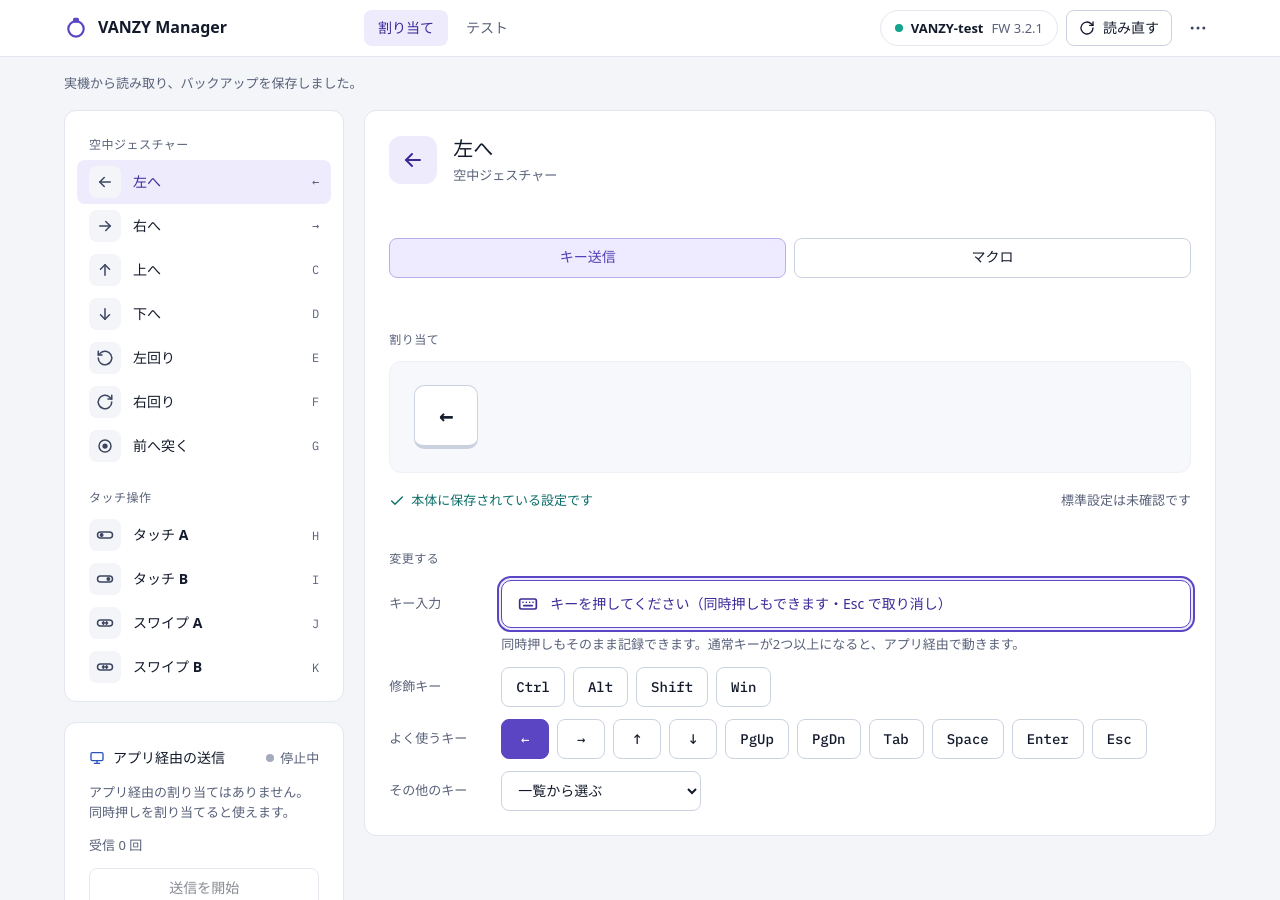
captures only an opted-in local key, and a chord becomes an app binding draft
Earlier steps of the test are not shown.
Press K in the button named "ここをクリックして、割り当てたいキーを押す", box [501,580,1191,628]
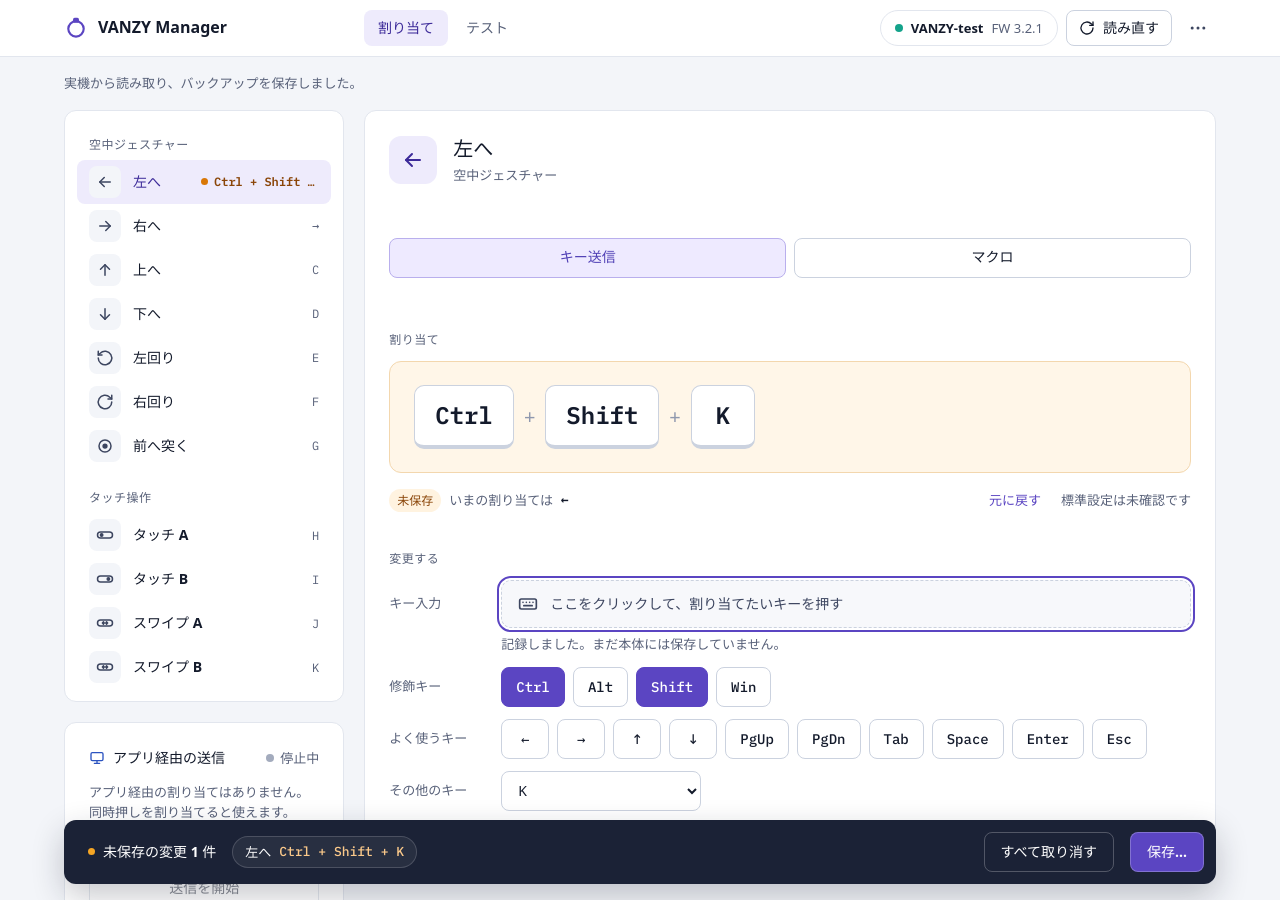
Check: the dropdown labelled "その他のキー" shows "K", box [501,771,701,811]
Check: the text "アプリ経由で動きます" is gone
Click the button "右へ →": (204, 226) [77,204,331,248]
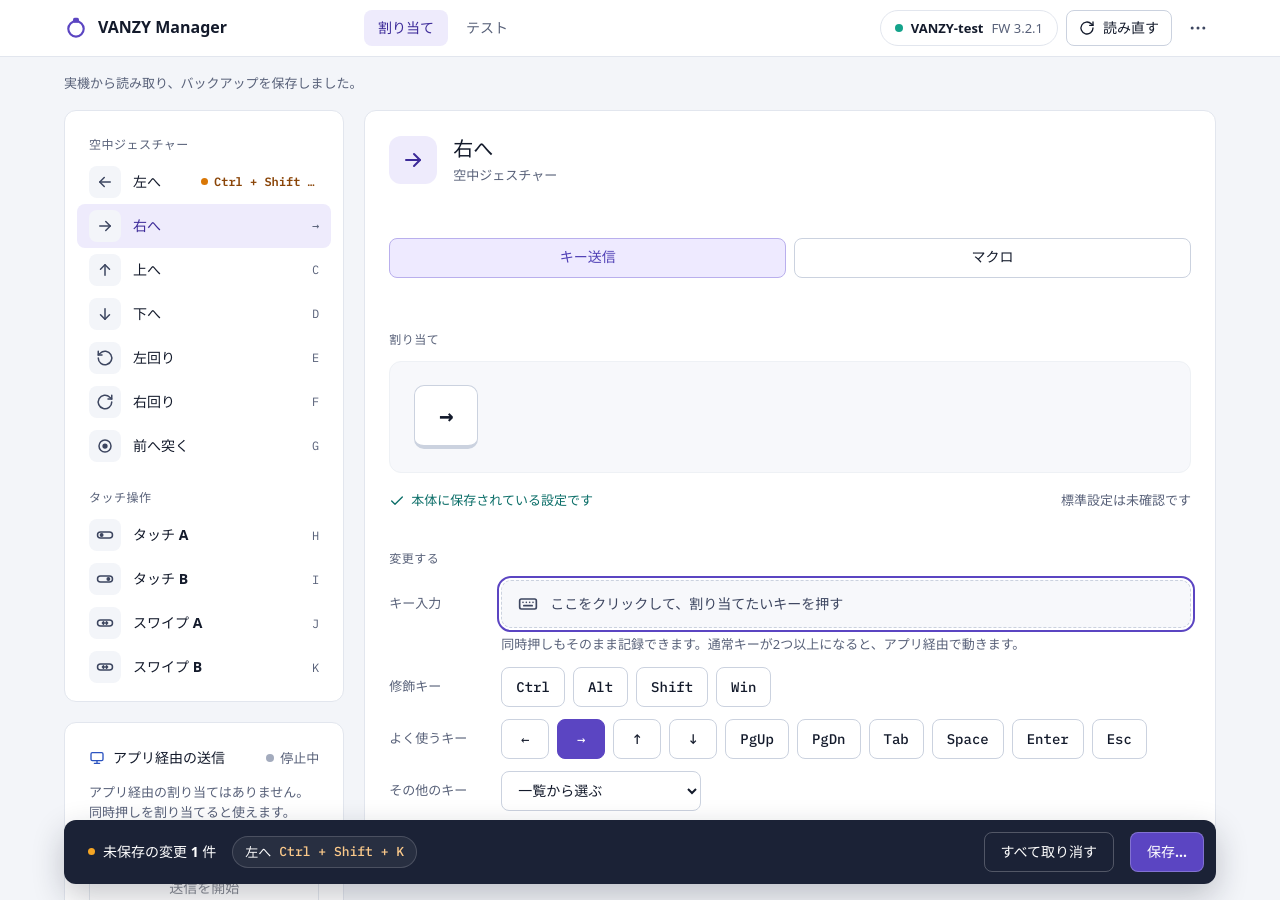
Click the button "ここをクリックして、割り当てたいキーを押す": (846, 604) [501,580,1191,628]
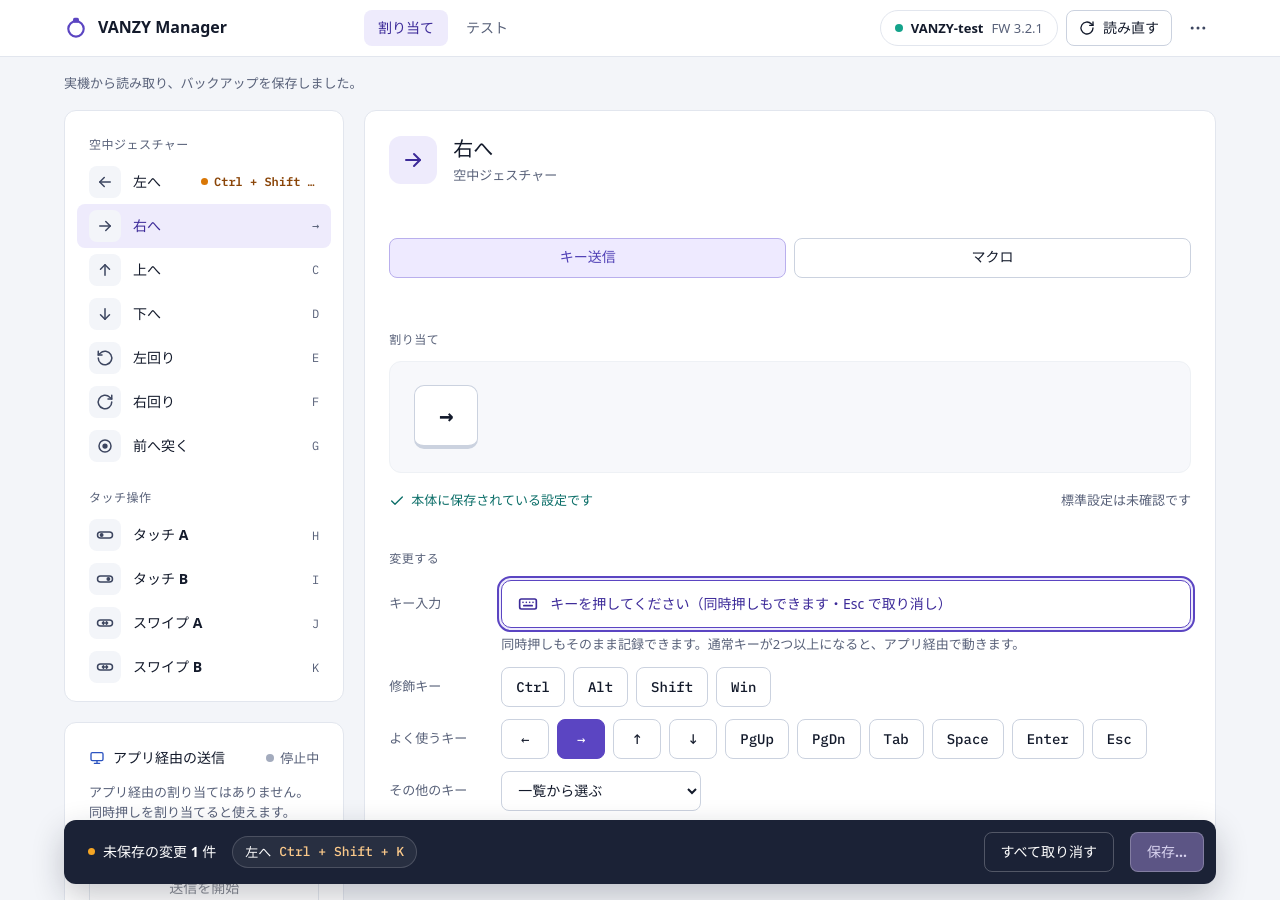
Press a in the button named "ここをクリックして、割り当てたいキーを押す", box [501,580,1191,628]
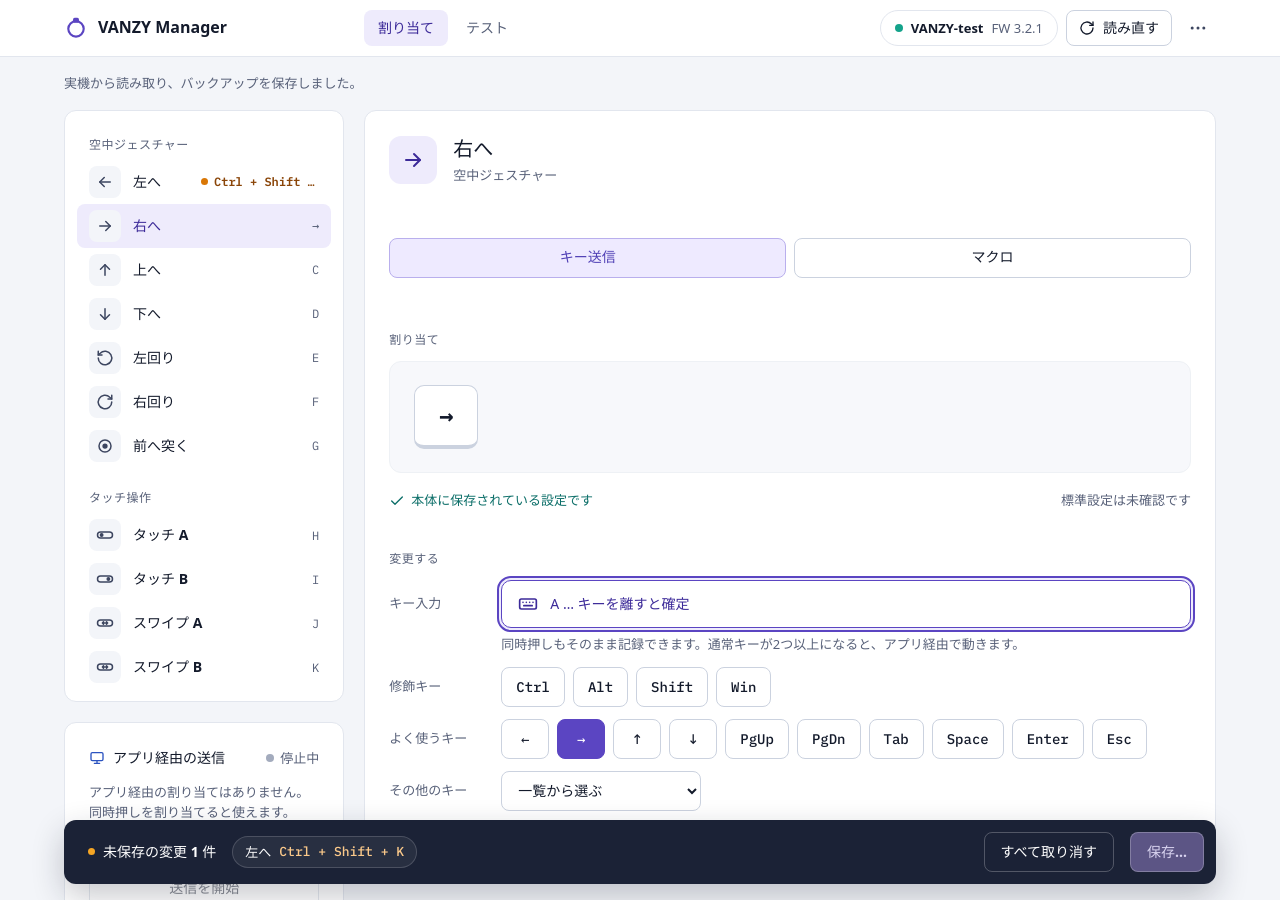
Press b in the button named "ここをクリックして、割り当てたいキーを押す", box [501,580,1191,628]
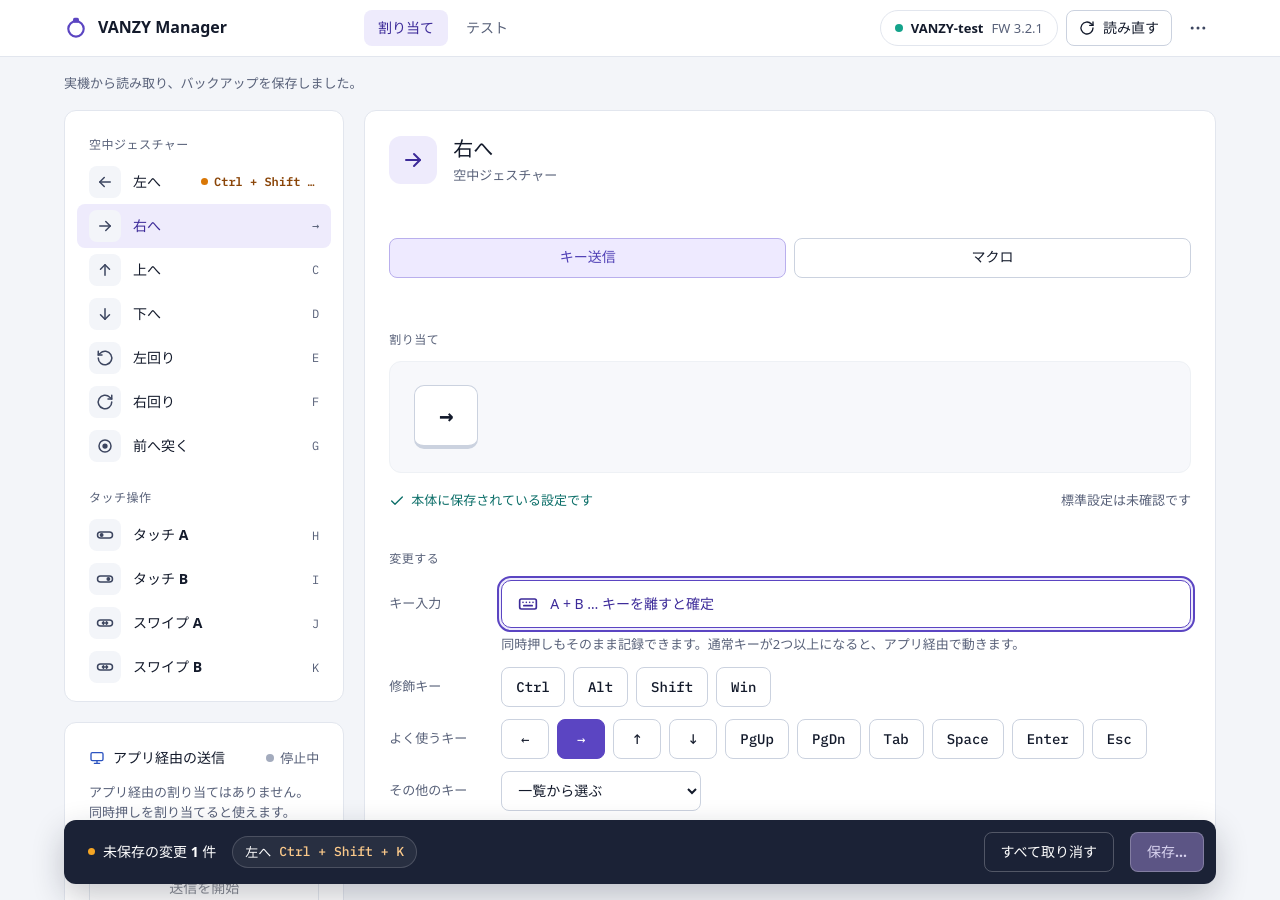
Press x in the button named "ここをクリックして、割り当てたいキーを押す", box [501,580,1191,628]
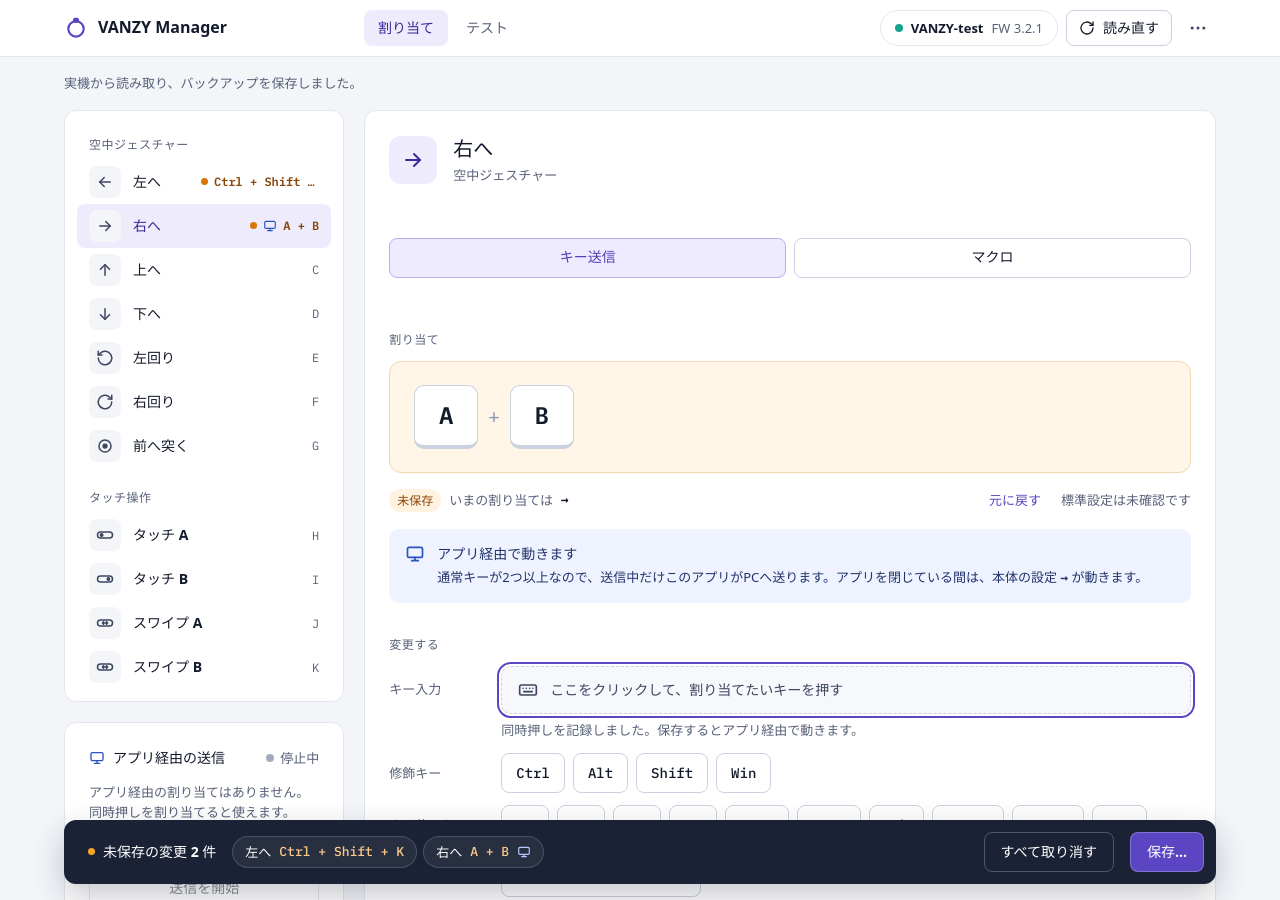
Check: the text "アプリ経由で動きます" is shown, box [437,544,577,563]
Check: the element "未保存の変更" shows "A + B", box [423,836,544,868]
